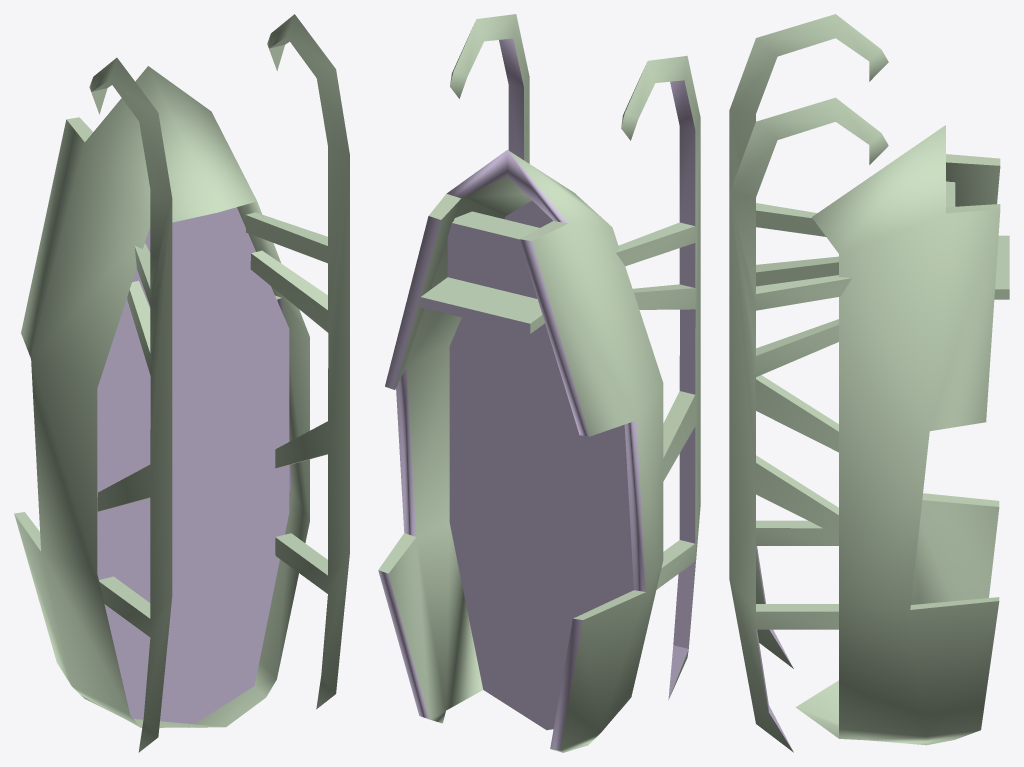
The picture shows the model from 3 angles, left to right: view 1: azimuth 30°, elevation 25°; view 2: azimuth 150°, elevation 25°; view 3: azimuth 270°, elevation 25°; orthographic projection. The views are drawn at different scales.
Parts seen in each view (by area): view 1: Object73; view 2: Object73; view 3: Object73.
Boxes of the visible parts, x1=… form: Object73: x1=14, y1=14, x2=349, y2=752; Object73: x1=378, y1=14, x2=700, y2=752; Object73: x1=729, y1=14, x2=1009, y2=752.
Bounding box in the file's own units: 13037 × 34940 × 13073.
